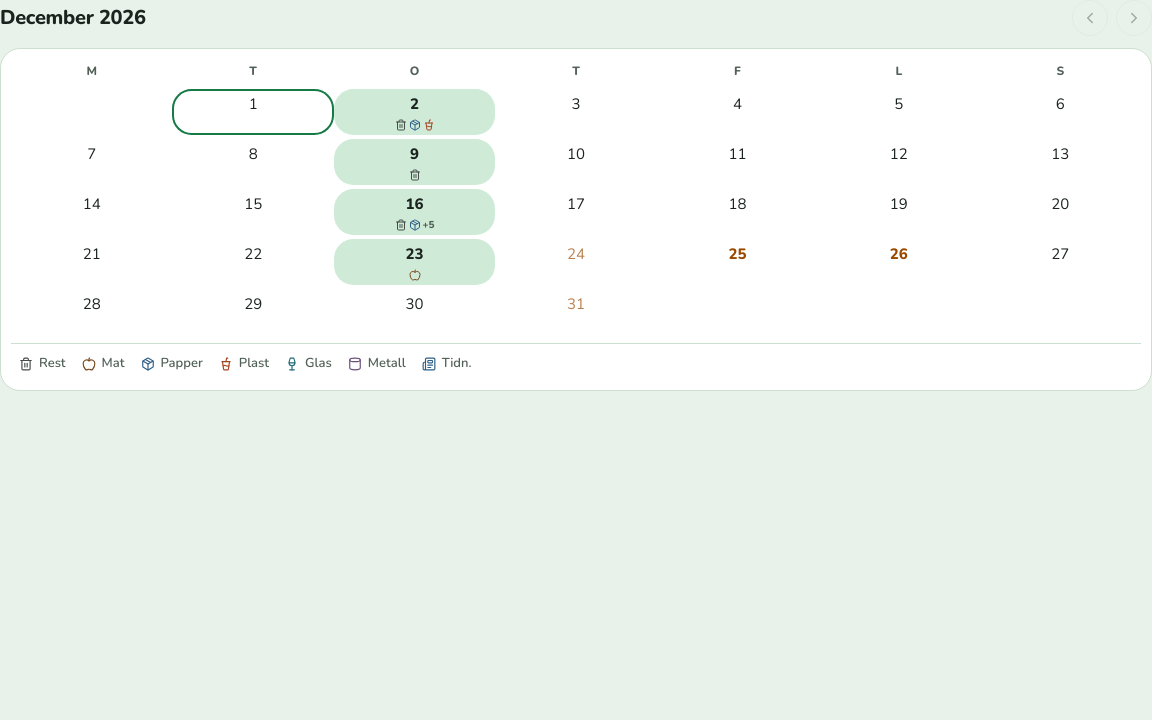
Test: MonthCalendar › berättar i dagens detaljer att datumet är framräknat
Click the button named "9 december: Restavfall".
click(414, 162)  # box top-left (334, 139), bottom-right (495, 185)
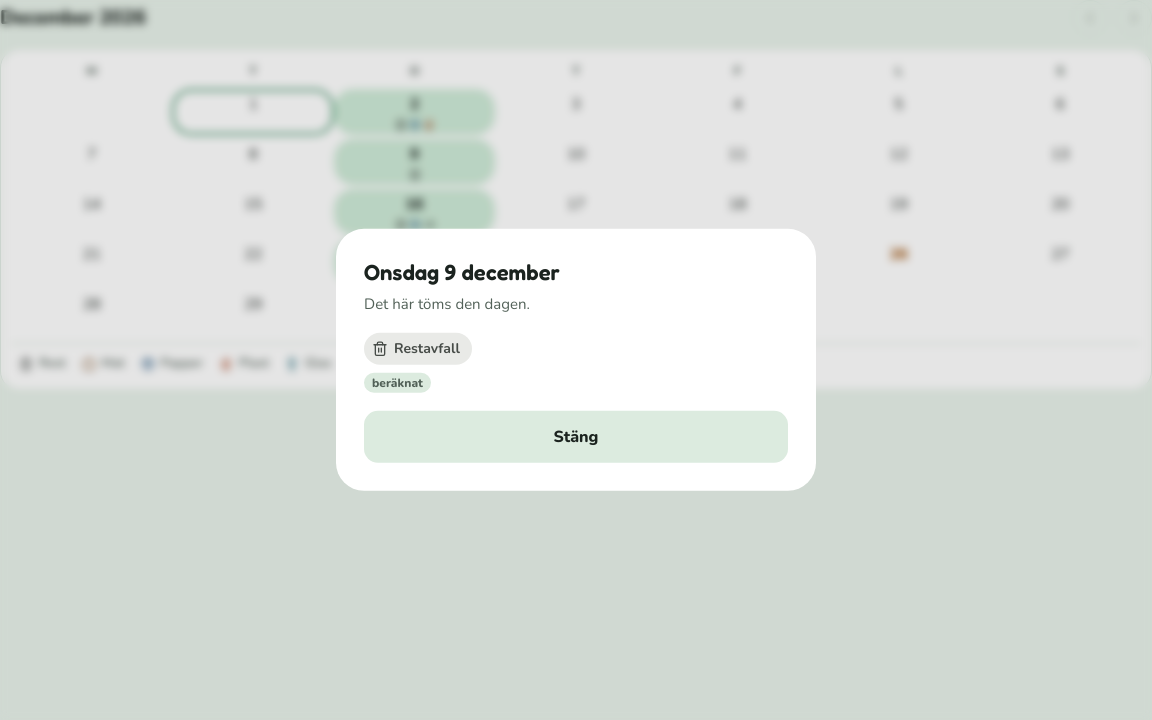
Result: the text "beräknat" is shown at top-left (364, 373), bottom-right (431, 393)
